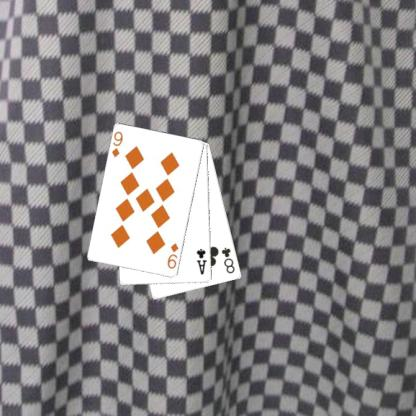8C: (218, 245, 236, 275)
9D: (165, 240, 180, 271), (109, 128, 124, 159)
AC: (194, 246, 208, 276)
